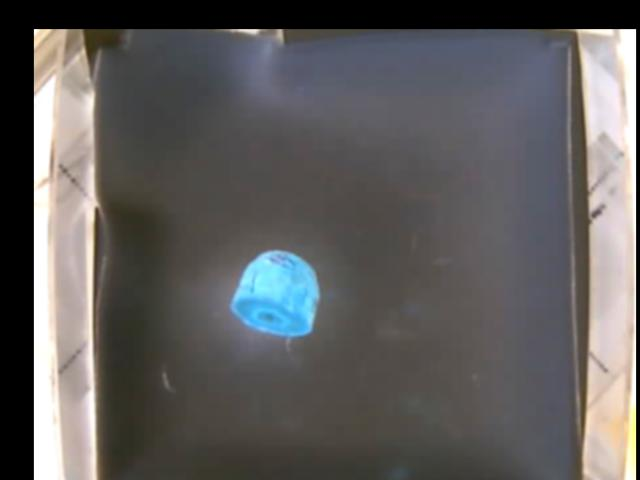Carrot: (234, 248, 318, 337)
